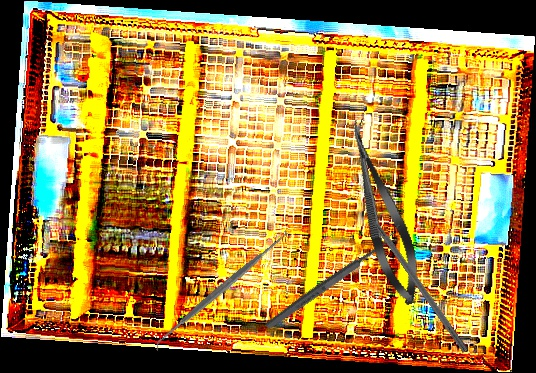Hook Surgical: (357, 196, 470, 354)
Micro Scissor: (336, 114, 430, 310)
Spatula Surgical: (147, 225, 295, 355)
Surgical Spoon: (264, 231, 399, 332)
